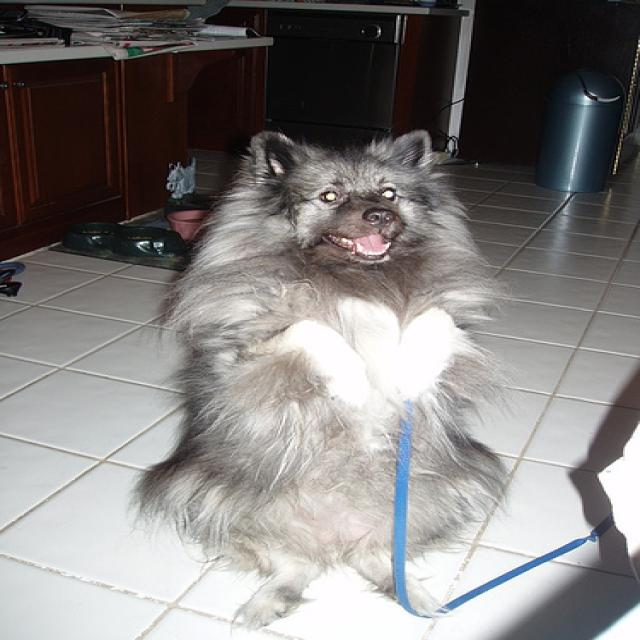dog: (237, 128, 430, 269)
